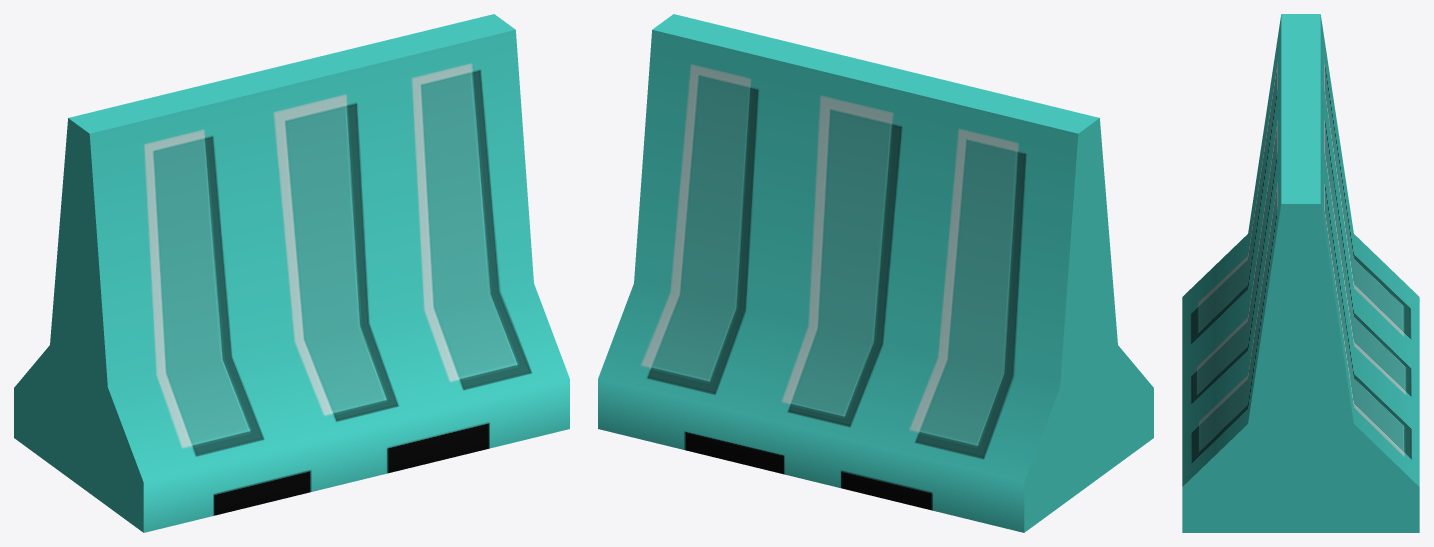
Rendered from fence002.fbx.
3 views of the same model, side by side, from view 1: azimuth 30°, elevation 25°; view 2: azimuth 150°, elevation 25°; view 3: azimuth 270°, elevation 25° (orthographic). The views are drawn at different scales.
Parts seen in each view (by area): view 1: TODOS:bolsaBasura:pCube1; view 2: TODOS:bolsaBasura:pCube1; view 3: TODOS:bolsaBasura:pCube1.
Part boxes in pixels (x1=…): TODOS:bolsaBasura:pCube1: x1=14, y1=14, x2=569, y2=532; TODOS:bolsaBasura:pCube1: x1=598, y1=14, x2=1153, y2=532; TODOS:bolsaBasura:pCube1: x1=1182, y1=14, x2=1419, y2=532.
Bounding box in the file's own units: 3.13 × 2.52 × 1.65.
